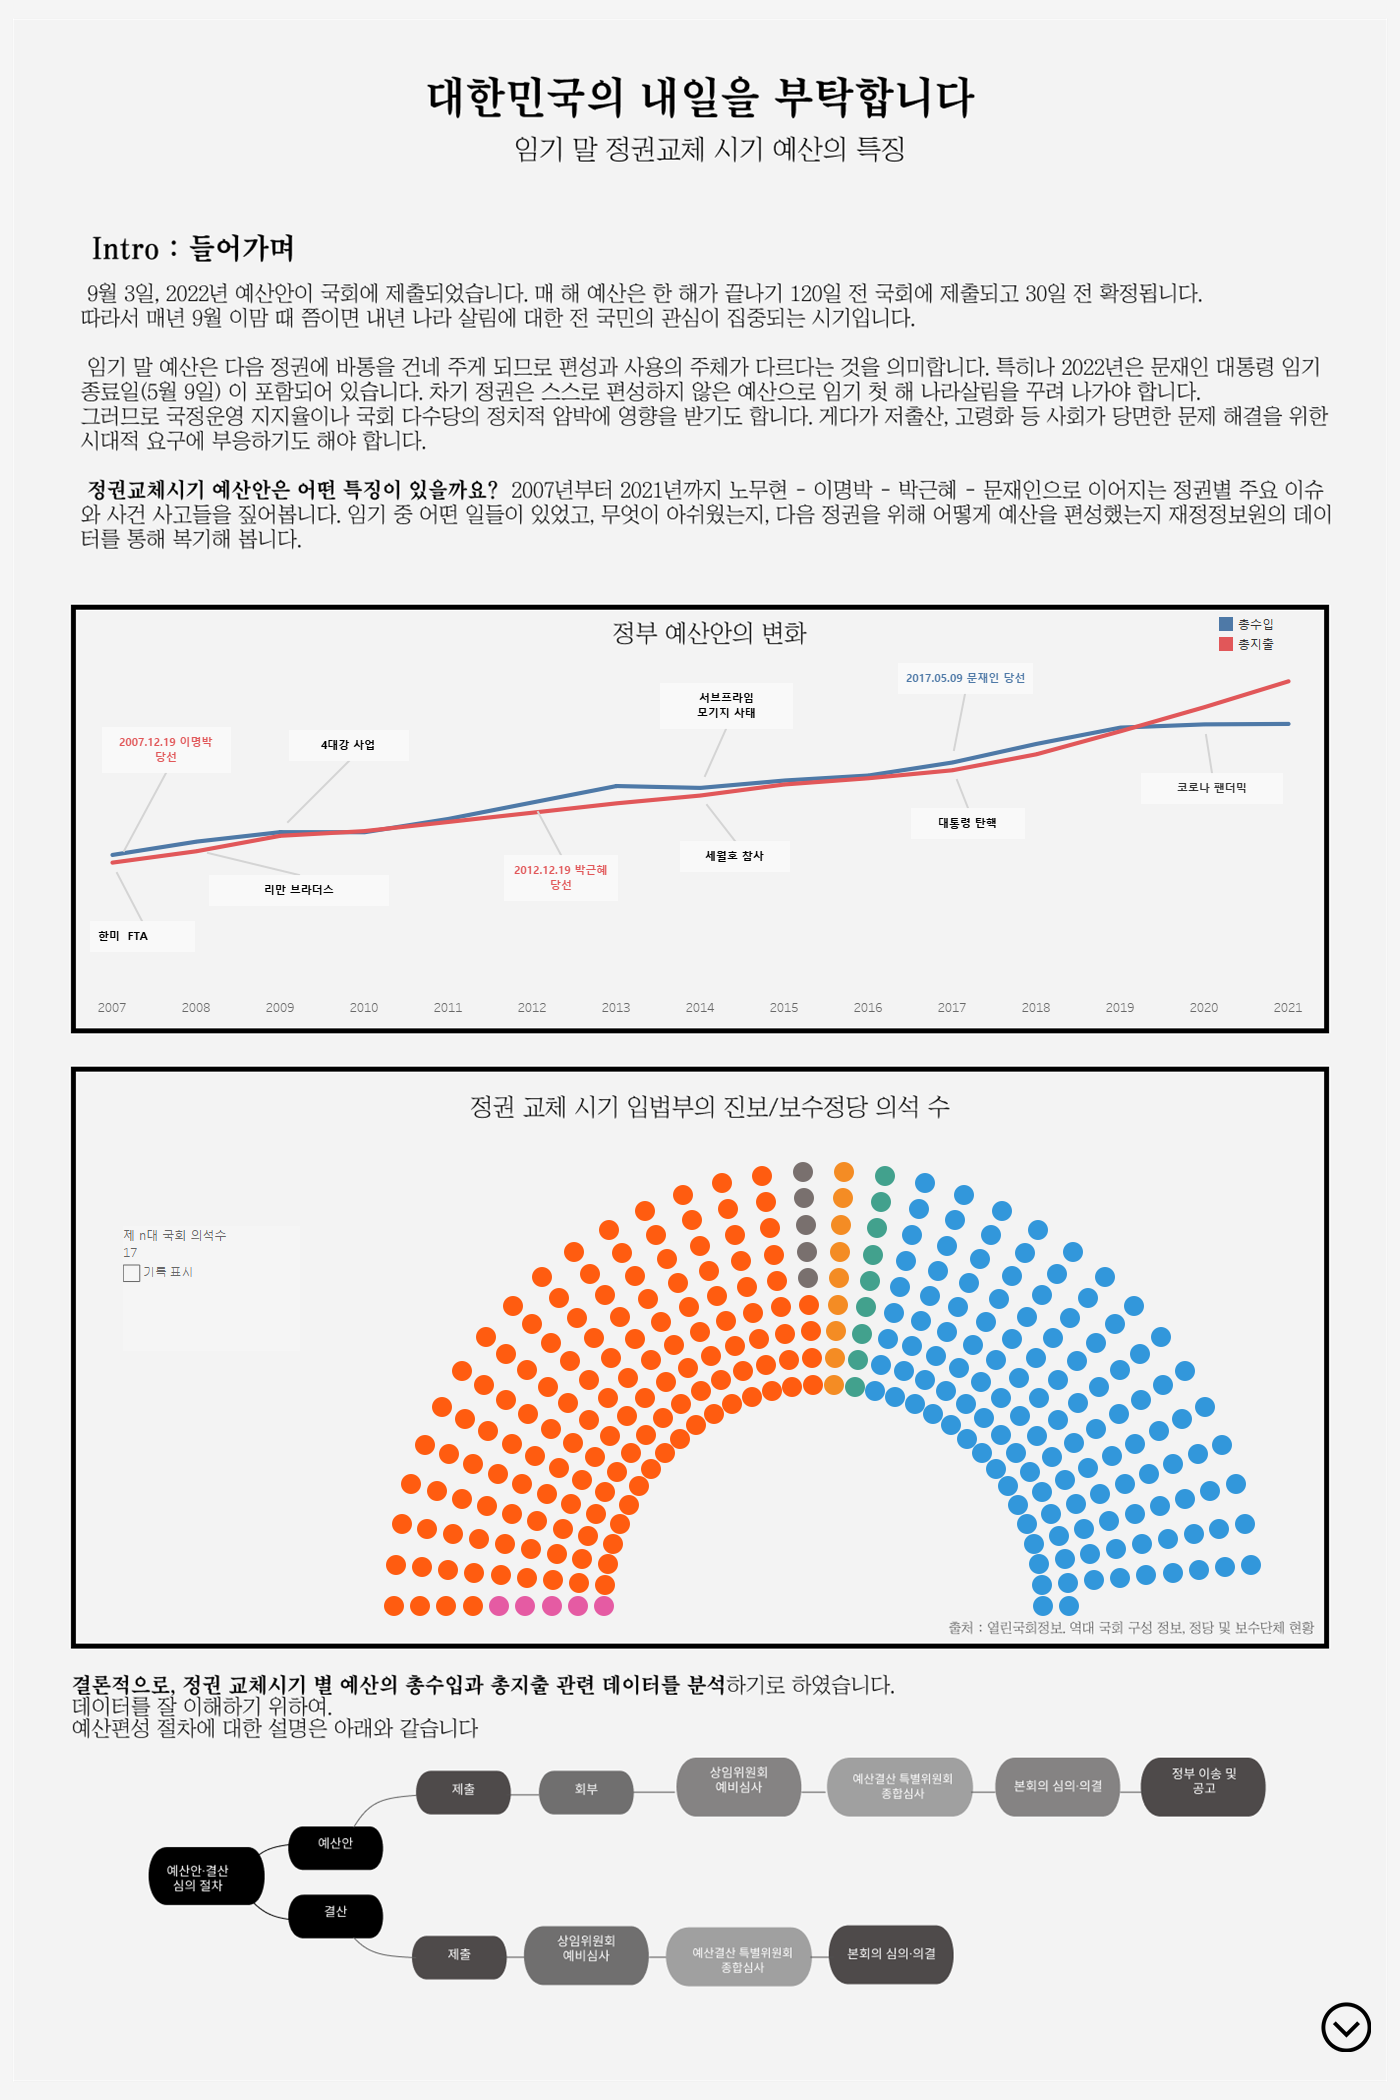

The page's visual inventory and layout, read from the dashboard file:
{"tool":"tableau","page":{"name":"1. 서론.인트로","canvas":[1400,2100],"ordinal":0},"visuals":[{"type":"image","param":"Image/KakaoTalk_20210910_122625482.png","box":[8,8,1384,2084]},{"type":"legend","title":"연도별_총수입총지출","param":"[federated.0n00nfl0gmxzpm18aw6xd0wnecv0].[:Measure Names]","box":[1216,614,140,74]},{"type":"worksheet","title":"연도별_총수입총지출","mark":"Line","rows":["총수입","총지출"],"cols":["FSCL_YY"],"box":[70,663,1260,354]},{"type":"worksheet","title":"의석수 차트","mark":"Circle","box":[341,1140,963,498]},{"type":"currpage","title":"의석수 차트","box":[123,1226,177,125]},{"type":"dashboard-object","box":[1301,2002,91,50]}]}

Visuals, with their boxes in screenshot pixels (x1, y1, x2, y2), scaled from the page's 1400x2100 canvas onto the 1400x2100 screenshot:
image: [8, 8, 1392, 2092]
"연도별_총수입총지출" legend: [1216, 614, 1356, 688]
"연도별_총수입총지출" worksheet (Line marks): [70, 663, 1330, 1017]
"의석수 차트" worksheet (Circle marks): [341, 1140, 1304, 1638]
"의석수 차트" currpage: [123, 1226, 300, 1351]
dashboard-object: [1301, 2002, 1392, 2052]
